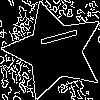I: (29, 25, 79, 51)
